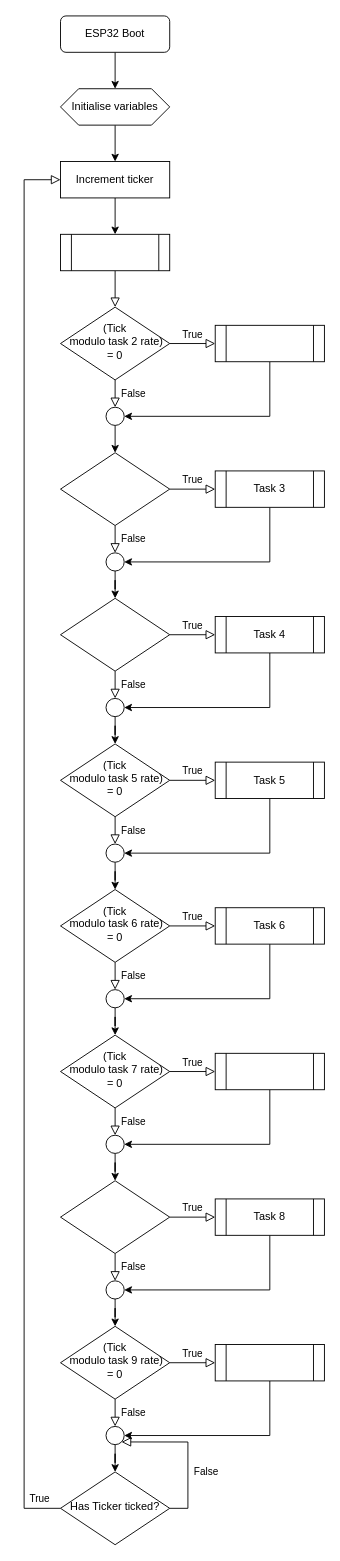
Image size: 340x1561. Some labels were removed from this diagram. Each missing label, with the centre of its shape:
"(Tick modulo task 3 rate) = 0" goes at [115,489].
"(Tick modulo task 4 rate) = 0" goes at [115,634].
"(Tick modulo task 8 rate) = 0" goes at [115,1217].
"Task 1" goes at [115,252].
"Task 2" goes at [269,343].
"Task 7" goes at [269,1071].
"Task 9" goes at [269,1362].
